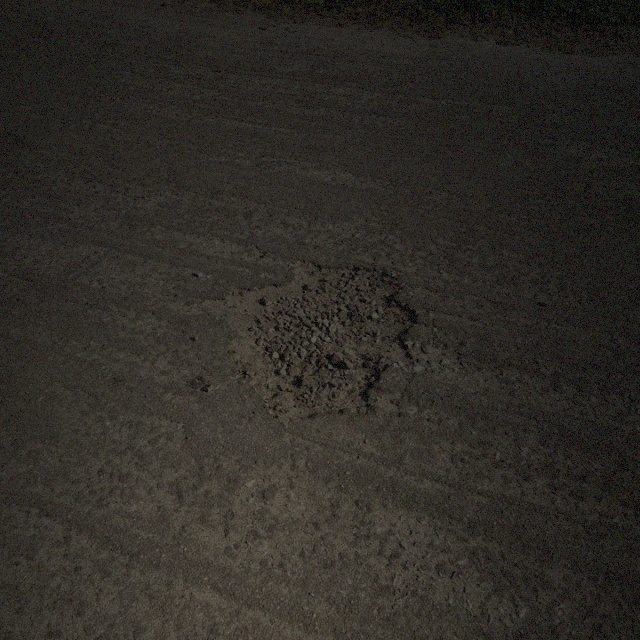pothole: (196, 259, 422, 425)
